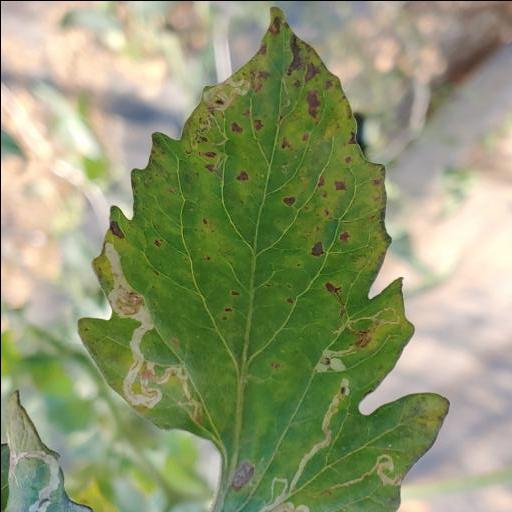Leaf Miner: (74, 4, 450, 512)
